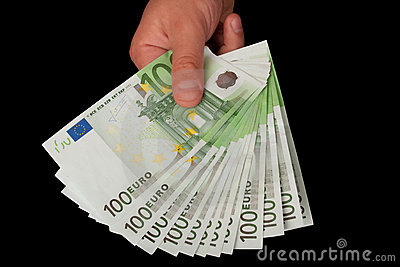billete: (40, 38, 315, 260)
